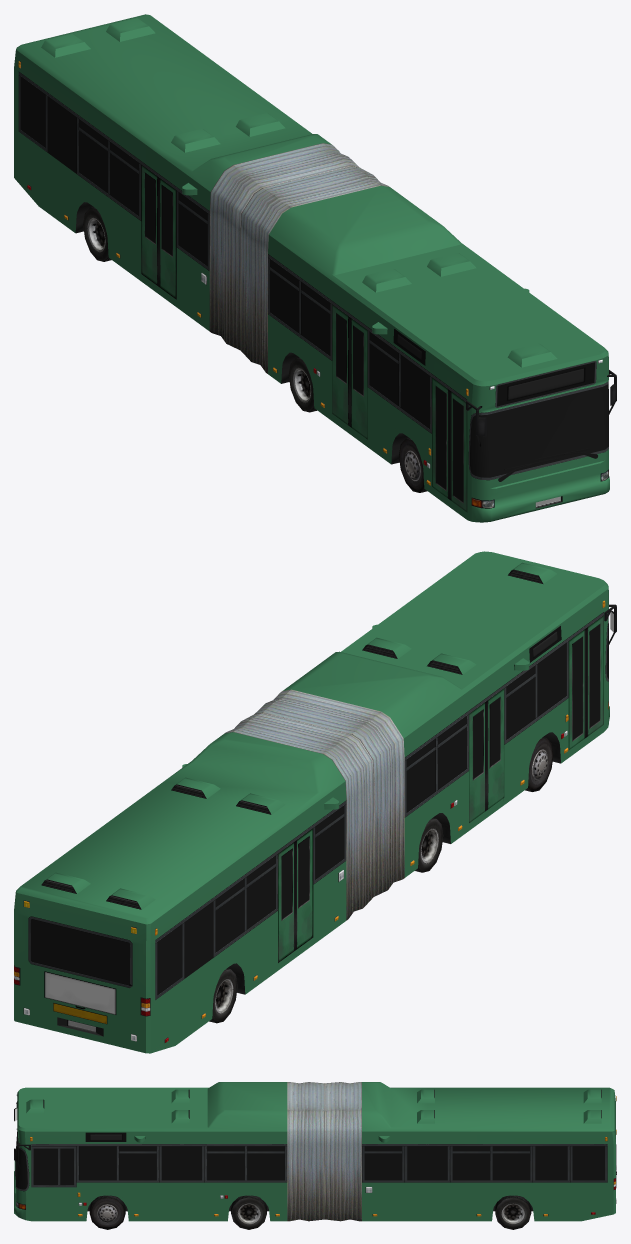
The model's file is bus_green.fbx.
3 renders of one model, top to bottom at view 1: azimuth 30°, elevation 25°; view 2: azimuth 150°, elevation 25°; view 3: azimuth 270°, elevation 25°, orthographic. The views are drawn at different scales.
Parts seen in each view (by area): view 1: polySurface13, polySurface14, polySurface18, polySurface19; view 2: polySurface13, polySurface14, polySurface19, polySurface18; view 3: polySurface13, polySurface17, polySurface15, polySurface16.
Boxes of the visible parts, x1,y1,x2,y2 form: polySurface13: [14, 14, 616, 522]; polySurface14: [83, 207, 111, 261]; polySurface18: [399, 438, 427, 492]; polySurface19: [288, 357, 316, 412]; polySurface13: [14, 551, 616, 1053]; polySurface14: [209, 968, 237, 1023]; polySurface19: [415, 817, 443, 872]; polySurface18: [525, 737, 553, 791]; polySurface13: [14, 1082, 616, 1221]; polySurface17: [89, 1195, 125, 1229]; polySurface15: [495, 1195, 531, 1229]; polySurface16: [231, 1195, 266, 1229].
Bounding box in the file's own units: 9.58 × 10.4 × 50.01.
16 materials, 16 textured.
